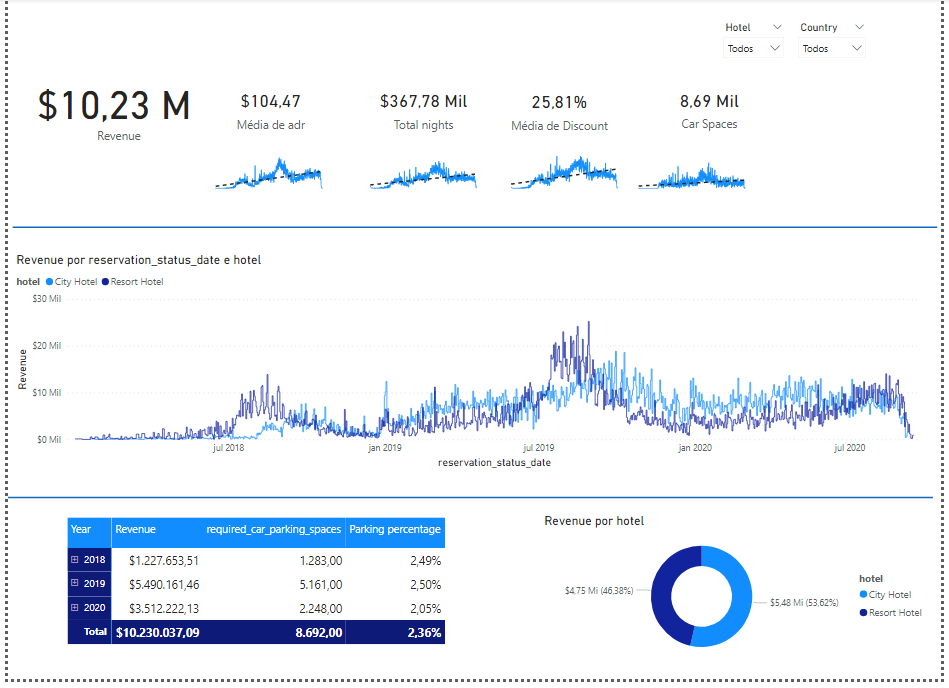

The dashboard page shown, as its layout file describes it:
{"tool":"powerbi","page":{"name":"Página 1","canvas":[1280,932],"ordinal":0},"visuals":[{"type":"shape","box":[6.4,240,1268.3,144.6],"z":0},{"type":"shape","box":[0,648.5,1268.3,71.5],"z":1000},{"type":"card","fields":{"Values":["Sum(Consulta1.Revenue)"]},"box":[23.8,90.6,254.3,116],"z":2000},{"type":"card","fields":{"Values":["Avg(Consulta1.adr)"]},"box":[254.3,98.5,209.8,101.7],"z":3000},{"type":"card","fields":{"Values":["Consulta1.Total nights"]},"box":[464.1,98.5,209.8,101.7],"z":4000},{"type":"card","fields":{"Values":["Avg(Consulta1.Discount)"]},"box":[673.9,104.9,162.1,92.2],"z":5000},{"type":"lineChart","fields":{"Category":["Consulta1.reservation_status_date"],"Y":["Sum(Consulta1.Revenue)"],"Series":["Consulta1.hotel"]},"box":[6.4,348.1,1262,300.4],"z":6000},{"type":"slicer","fields":{"Values":["Consulta1.country"]},"box":[1074.4,25.4,112.8,79.5],"z":7000},{"type":"slicer","fields":{"Values":["Consulta1.hotel"]},"box":[971.1,25.4,103.3,79.5],"z":8000},{"type":"lineChart","fields":{"Category":["Consulta1.reservation_status_date"],"Y":["Sum(Consulta1.adr)"]},"box":[270.2,197.1,176.4,68.3],"z":9000},{"type":"lineChart","fields":{"Category":["Consulta1.reservation_status_date"],"Y":["Consulta1.Total nights"]},"box":[481.6,197.1,176.4,68.3],"z":10000},{"type":"lineChart","fields":{"Category":["Consulta1.reservation_status_date"],"Y":["Sum(Consulta1.Discount)"]},"box":[673.9,197.1,176.4,68.3],"z":11000},{"type":"card","fields":{"Values":["Sum(Consulta1.required_car_parking_spaces)"]},"box":[850.3,103.3,224.1,92.2],"z":12000},{"type":"lineChart","fields":{"Category":["Consulta1.reservation_status_date"],"Y":["Sum(Consulta1.required_car_parking_spaces)"]},"box":[850.3,197.1,176.4,68.3],"z":13000},{"type":"donutChart","fields":{"Category":["Consulta1.hotel"],"Y":["Sum(Consulta1.Revenue)"]},"box":[730.4,705.7,537,207.8],"z":14000},{"type":"pivotTable","fields":{"Rows":["Consulta1.reservation_status_date.Variation.Date Hierarchy.Year","Consulta1.hotel"],"Values":["Sum(Consulta1.Revenue)","Sum(Consulta1.required_car_parking_spaces)","Consulta1.Parking percentage"]},"box":[76.1,705.7,615.2,214],"z":15000}]}

Visuals, with their boxes in screenshot pixels (x1, y1, x2, y2), scaled from the page's 1280x932 canvas onto the 949x688 screenshot:
shape: (left=5, top=177, right=945, bottom=284)
shape: (left=0, top=479, right=940, bottom=532)
card - Sum(Consulta1.Revenue): (left=18, top=67, right=206, bottom=153)
card - Avg(Consulta1.adr): (left=189, top=73, right=344, bottom=148)
card - Consulta1.Total nights: (left=344, top=73, right=500, bottom=148)
card - Avg(Consulta1.Discount): (left=500, top=77, right=620, bottom=145)
lineChart - Consulta1.reservation_status_date x Sum(Consulta1.Revenue): (left=5, top=257, right=940, bottom=479)
slicer - Consulta1.country: (left=797, top=19, right=880, bottom=77)
slicer - Consulta1.hotel: (left=720, top=19, right=797, bottom=77)
lineChart - Consulta1.reservation_status_date x Sum(Consulta1.adr): (left=200, top=145, right=331, bottom=196)
lineChart - Consulta1.reservation_status_date x Consulta1.Total nights: (left=357, top=145, right=488, bottom=196)
lineChart - Consulta1.reservation_status_date x Sum(Consulta1.Discount): (left=500, top=145, right=630, bottom=196)
card - Sum(Consulta1.required_car_parking_spaces): (left=630, top=76, right=797, bottom=144)
lineChart - Consulta1.reservation_status_date x Sum(Consulta1.required_car_parking_spaces): (left=630, top=145, right=761, bottom=196)
donutChart - Consulta1.hotel x Sum(Consulta1.Revenue): (left=542, top=521, right=940, bottom=674)
pivotTable - Consulta1.reservation_status_date.Variation.Date Hierarchy.Year x Consulta1.hotel: (left=56, top=521, right=513, bottom=679)
